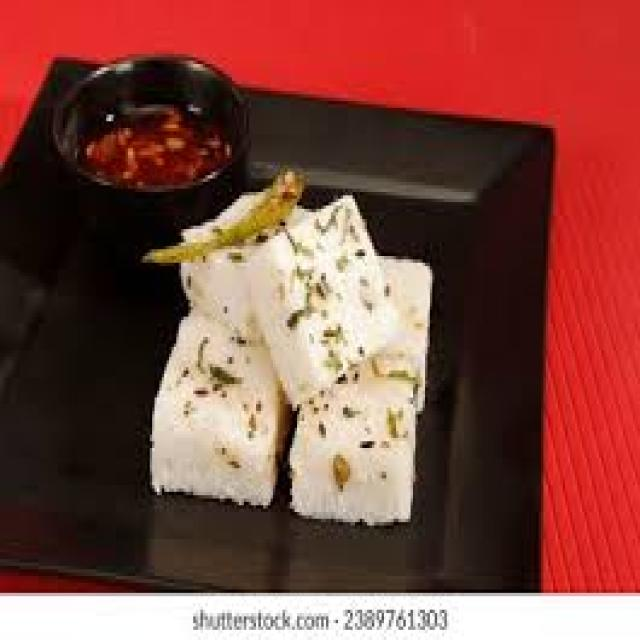DHOKLA: (150, 243, 285, 502), (237, 232, 312, 404)
